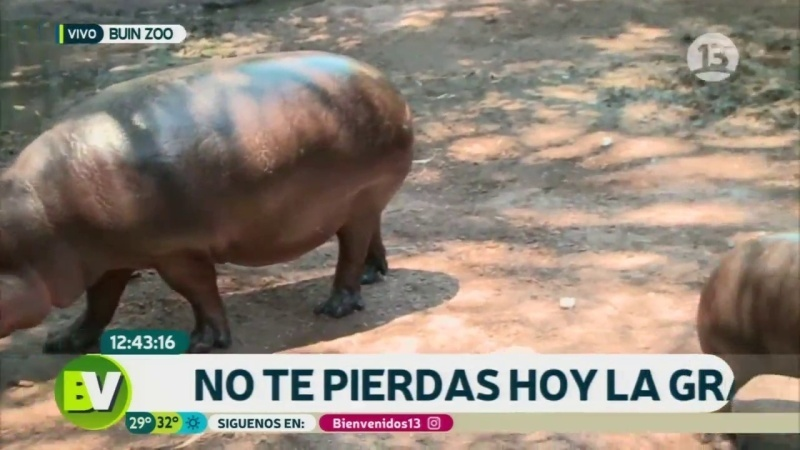hipopotamo: (1, 53, 474, 347)
